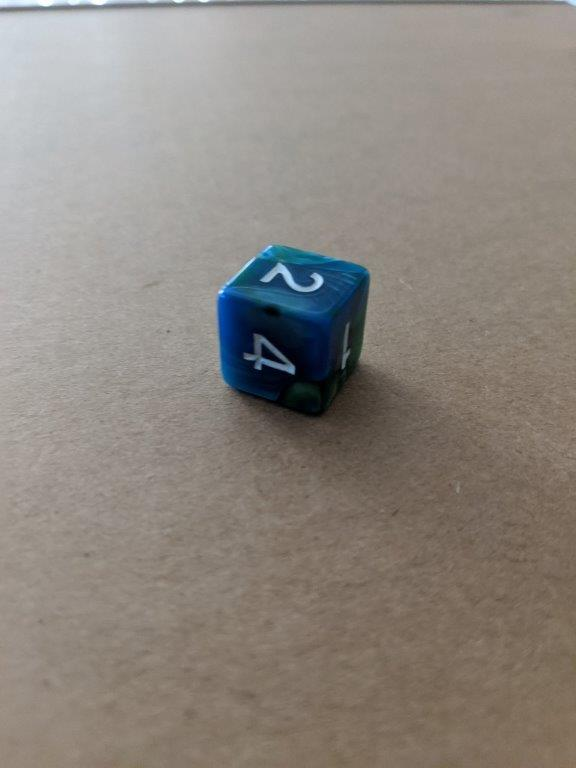d6-2: (217, 246, 369, 416)
